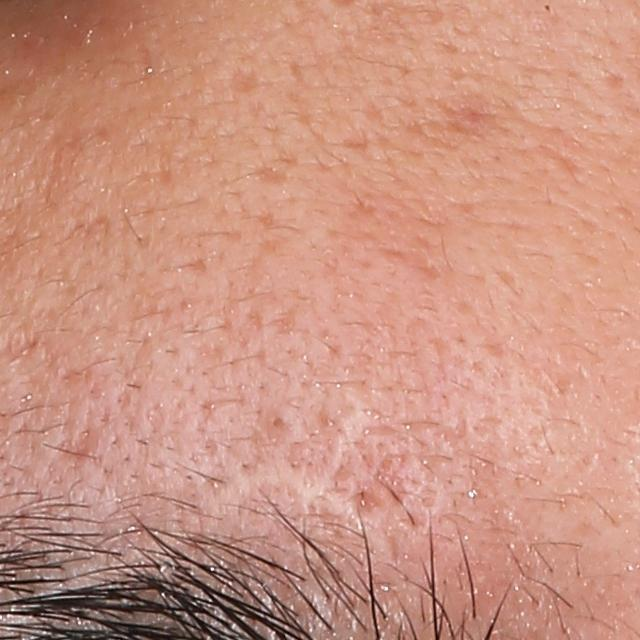atrophic_scar: (283, 404, 356, 494), (375, 245, 442, 284), (345, 487, 401, 522), (48, 436, 98, 464), (248, 157, 290, 188), (226, 65, 261, 94)
comedo: (267, 410, 291, 434)
